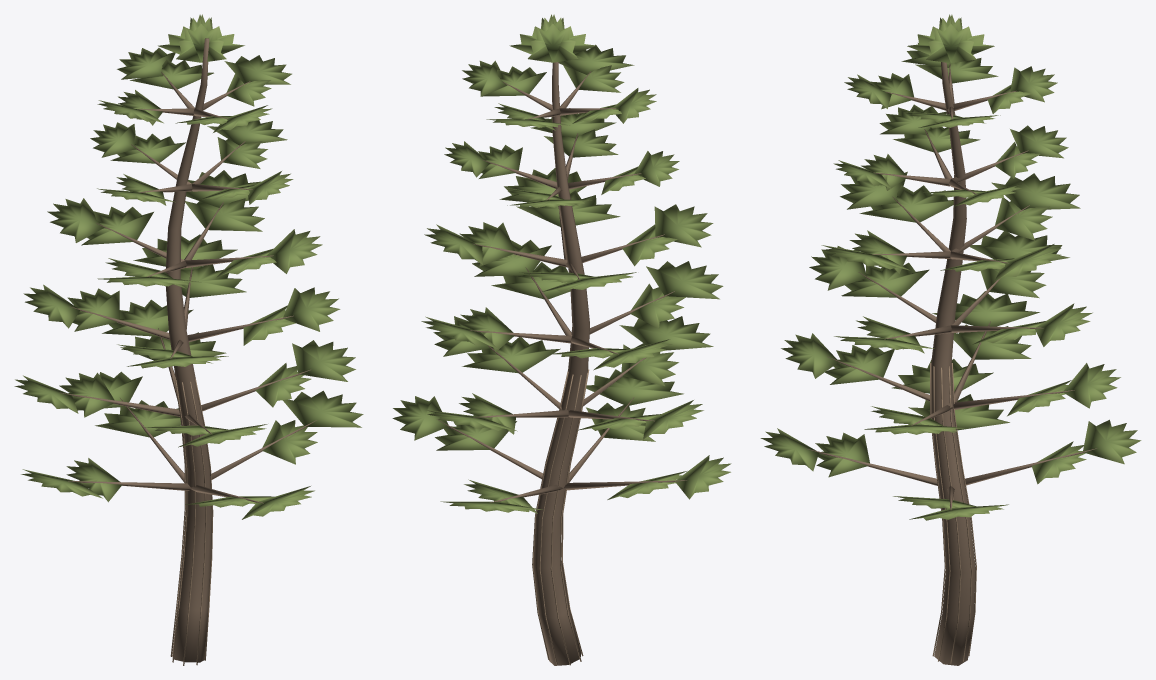
Rendered from tree_cedar.glb.
3 views of the same model, side by side, from view 1: azimuth 30°, elevation 25°; view 2: azimuth 150°, elevation 25°; view 3: azimuth 270°, elevation 25° (orthographic).
Visible parts, largest first — view 1: tree_cedar_mesh; view 2: tree_cedar_mesh; view 3: tree_cedar_mesh.
Boxes of the visible parts, left/top/right/bottom form: tree_cedar_mesh: left=14, top=14, right=363, bottom=665; tree_cedar_mesh: left=392, top=14, right=731, bottom=665; tree_cedar_mesh: left=760, top=14, right=1141, bottom=665.
Bounding box in the file's own units: 5.02 × 9.39 × 5.02.
